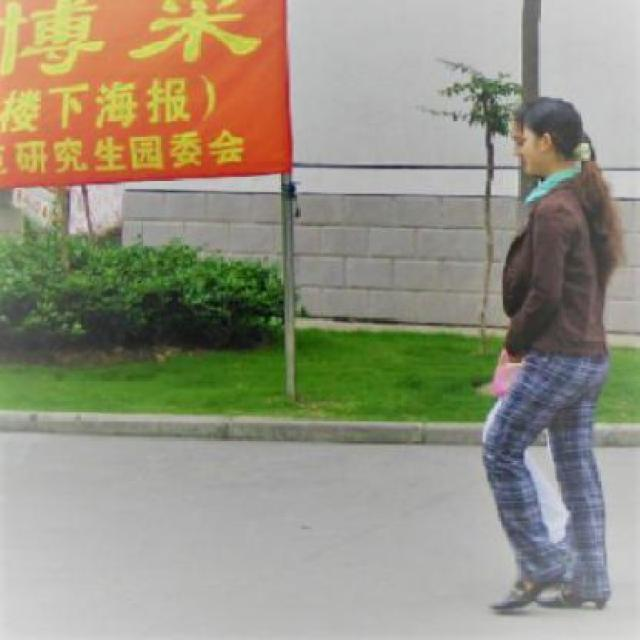Person: (488, 95, 626, 617)
